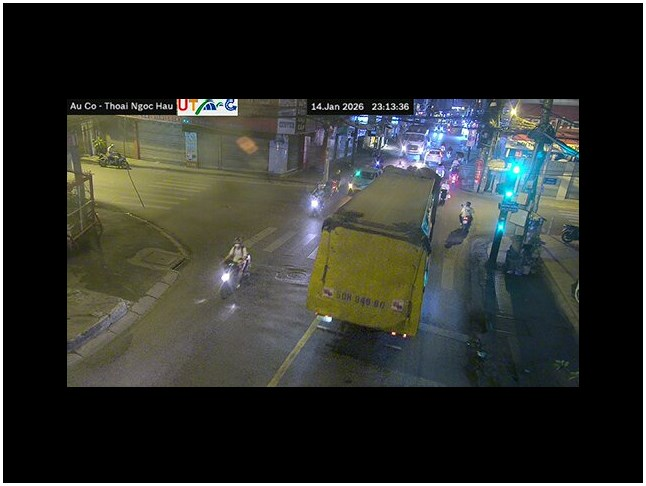bus: (304, 163, 439, 352), (402, 126, 427, 156)
car: (420, 147, 444, 164)
motorbike: (219, 237, 256, 300), (98, 140, 129, 171), (304, 180, 327, 215), (460, 203, 473, 230), (330, 169, 342, 194)
